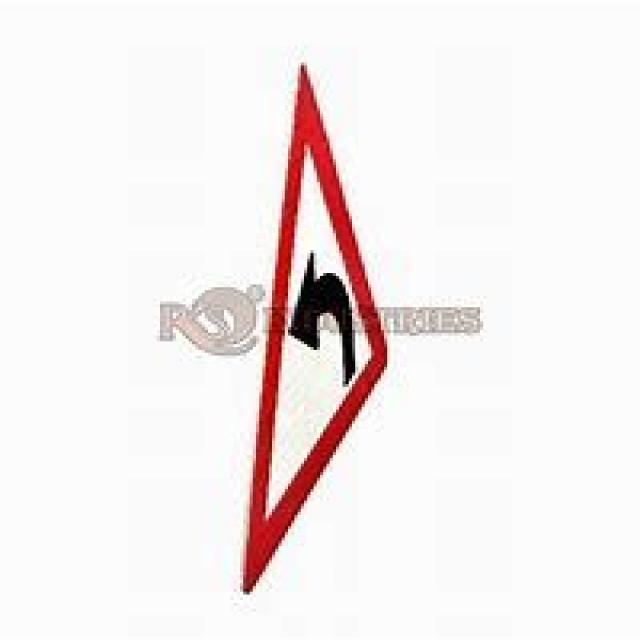LEFT_HAND_CURVE: (244, 59, 392, 593)
